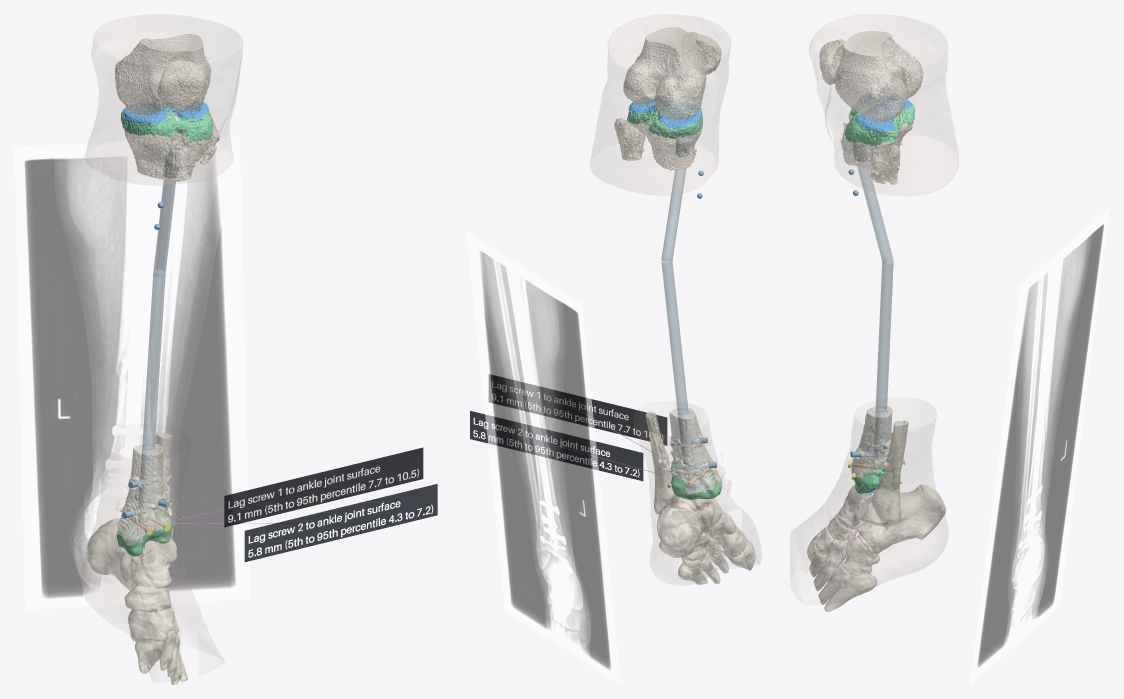
3 views of the same model, side by side, from view 1: azimuth 30°, elevation 25°; view 2: azimuth 150°, elevation 25°; view 3: azimuth 270°, elevation 25° (orthographic). The views are drawn at different scales.
Visible parts, largest first — view 1: radiograph, skin, implant_8, tibia, implant_16, tarsal, femur, nail_modelled, patella, metatarsal, capsule_band_knee, nail (+3 smaller); view 2: radiograph, skin, femur, implant_17, implant_9, tibia, tarsal, nail_modelled, fibula, metatarsal, articular_surface_knee, capsule_band_knee (+3 smaller); view 3: radiograph, skin, tarsal, femur, tibia, fibula, nail_modelled, metatarsal, capsule_band_knee, articular_surface_knee, nail, patella (+1 smaller).
Part boxes in pixels (x1,y1,x2,y2): radiograph: (14,136,250,609); skin: (81,14,242,680); implant_8: (224,447,423,527); tibia: (117,111,210,556); implant_16: (244,484,437,562); tarsal: (87,518,178,642); femur: (115,34,211,114); nail_modelled: (142,180,175,450); patella: (157,59,207,112); metatarsal: (135,631,187,684); capsule_band_knee: (121,108,213,142); nail: (138,149,180,526); radiograph: (466,231,620,684); skin: (590,14,760,585); femur: (623,27,706,120); implant_17: (470,411,643,481); implant_9: (489,374,667,445); tibia: (627,107,722,499); tarsal: (657,481,746,563); nail_modelled: (661,168,688,415); fibula: (614,118,674,514); metatarsal: (678,535,755,584); articular_surface_knee: (629,96,701,129); capsule_band_knee: (627,102,702,138); radiograph: (970,208,1109,684); skin: (790,14,958,594); tarsal: (809,484,946,574); femur: (834,31,923,122); tibia: (840,114,913,493); fibula: (870,144,908,523); nail_modelled: (857,166,893,413); metatarsal: (807,541,877,611); capsule_band_knee: (845,101,915,146); articular_surface_knee: (854,93,912,131); nail: (853,142,886,471); patella: (819,39,845,84).
Bounding box in the file's own units: 0.2864 × 0.5631 × 0.2775.
Materials: 15 (3 with a texture image).
